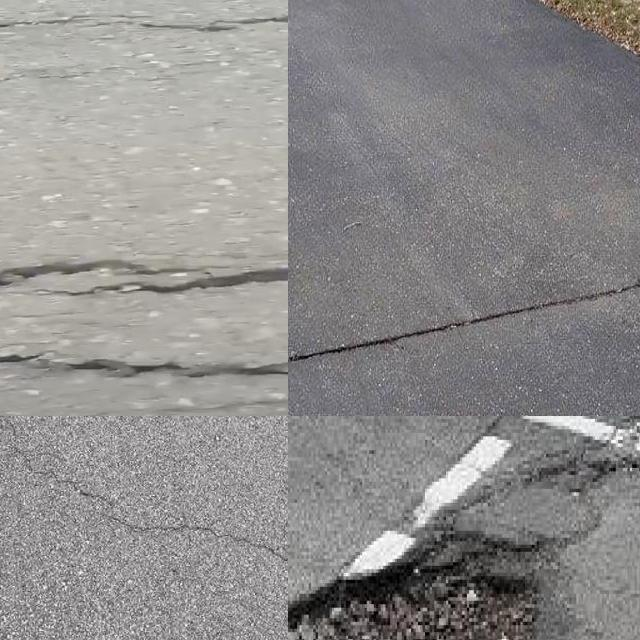Lubang: (288, 531, 550, 640)
Melintang: (288, 264, 640, 382), (0, 439, 288, 583), (0, 247, 288, 306), (0, 336, 288, 391), (0, 3, 288, 39)
